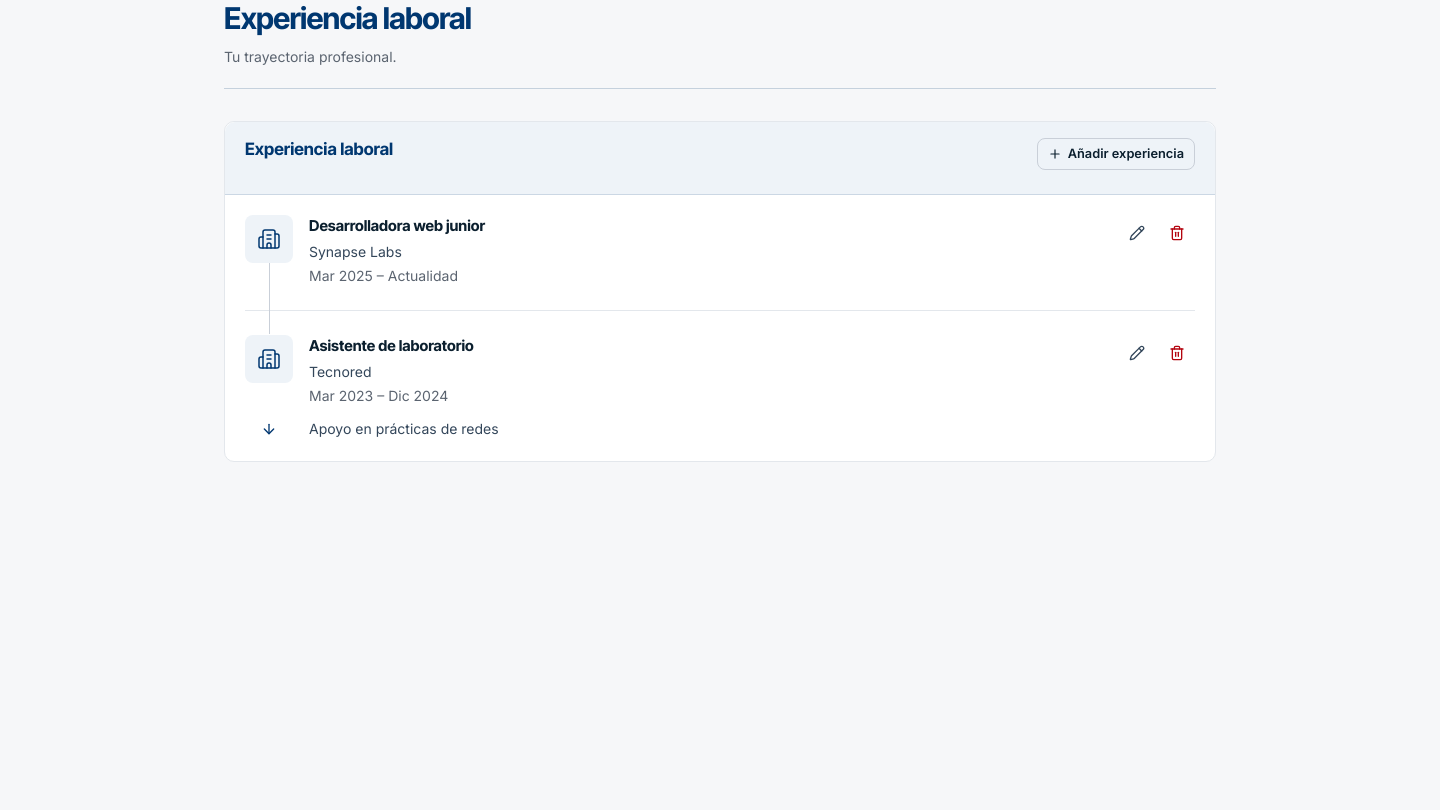
Scenario: WorkExperienceView › shows an error when an experience cannot be saved
Expected: the heading "Asistente de laboratorio" is shown, [309,336,474,355]
Step 1. Click the button named "Editar Asistente de laboratorio" → (1137, 353), box [1119,335,1155,371]
(page scrolled)
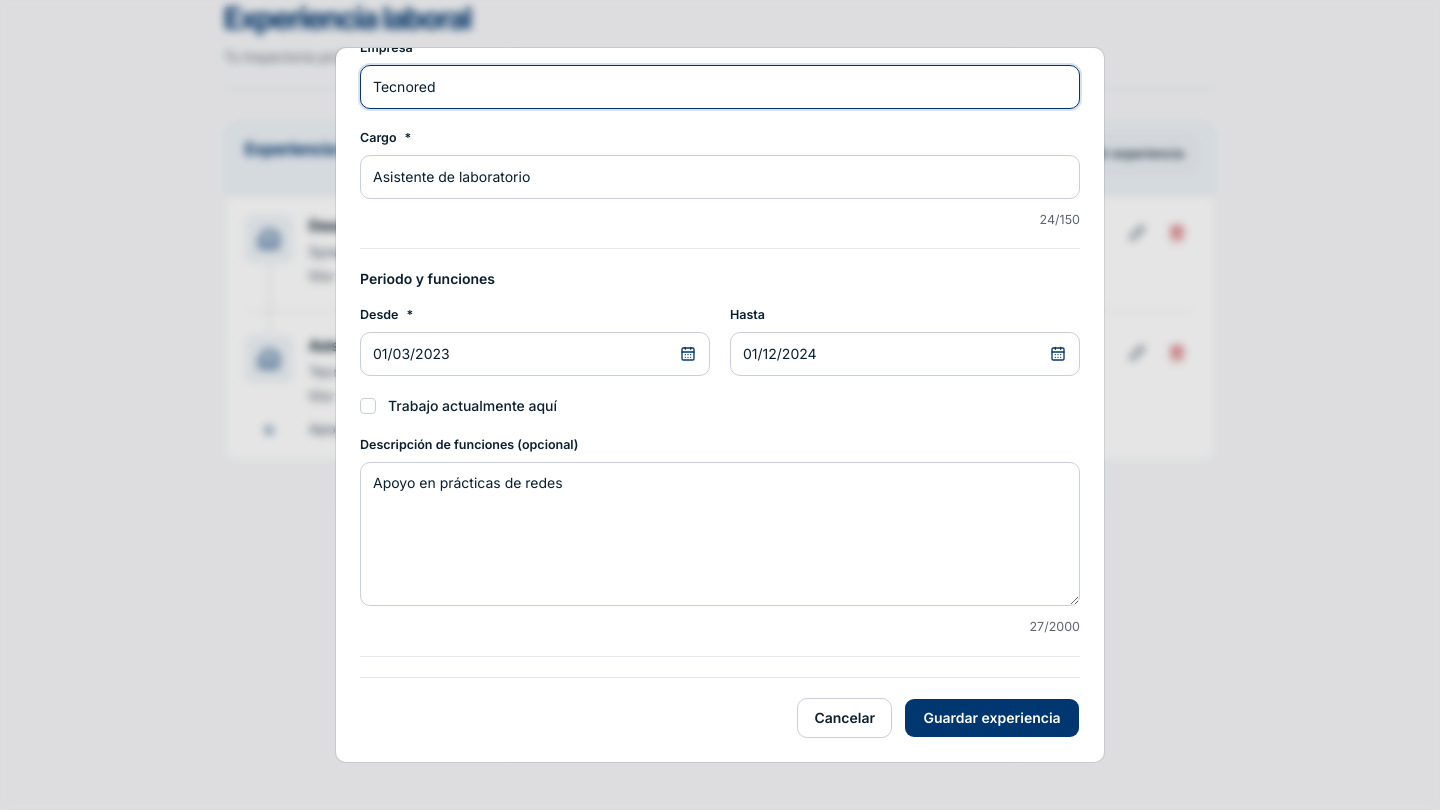
Step 2. Click the button "Guardar experiencia" → (992, 718), box [904,698,1080,738]
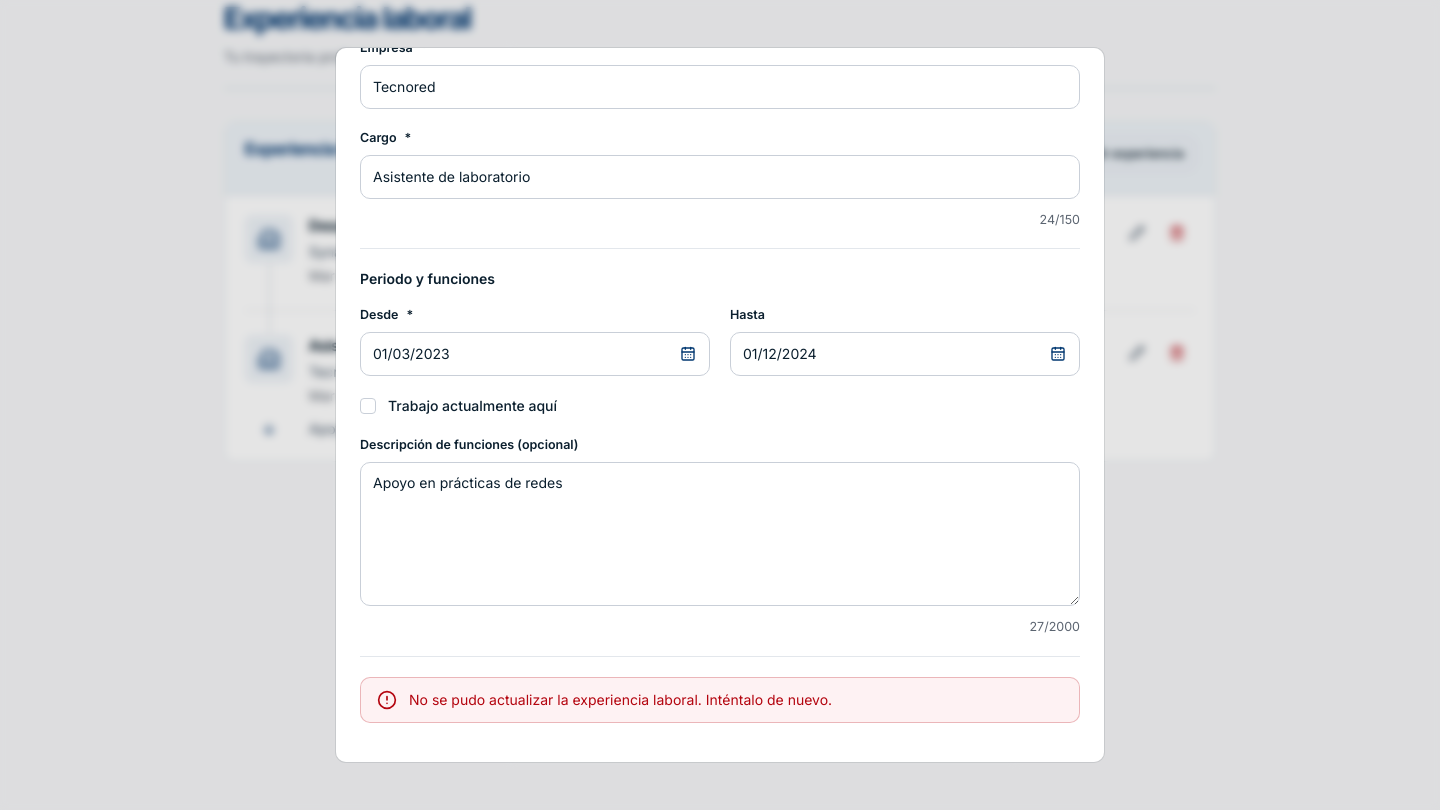
Result: the message reads "No se pudo actualizar la experiencia laboral. Inténtalo de nuevo." at [409,691,832,708]
